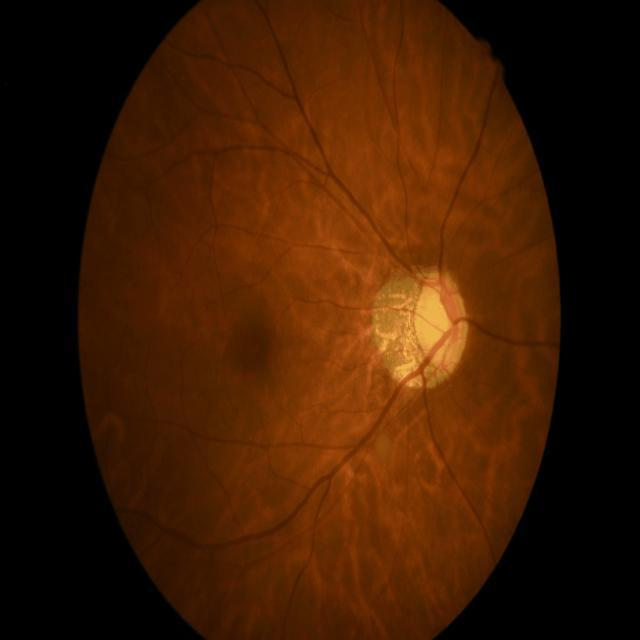cup: (420, 282, 452, 354)
disk: (413, 270, 467, 377)
